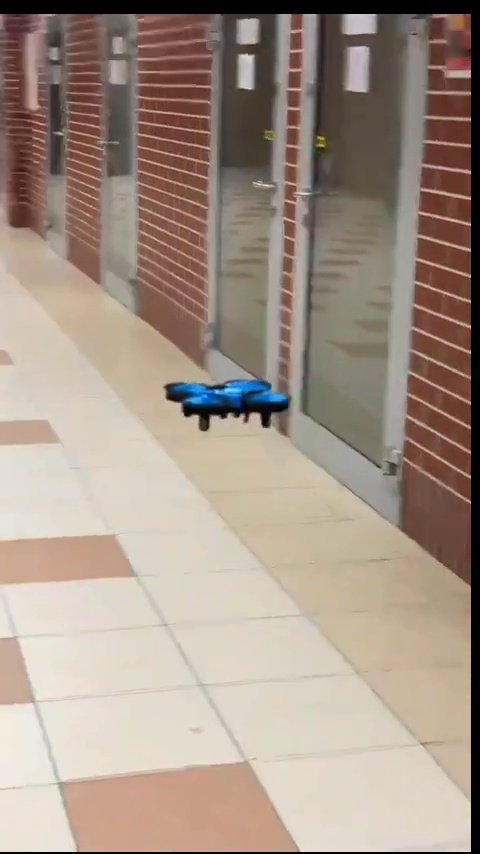drone: (162, 380, 293, 432)
